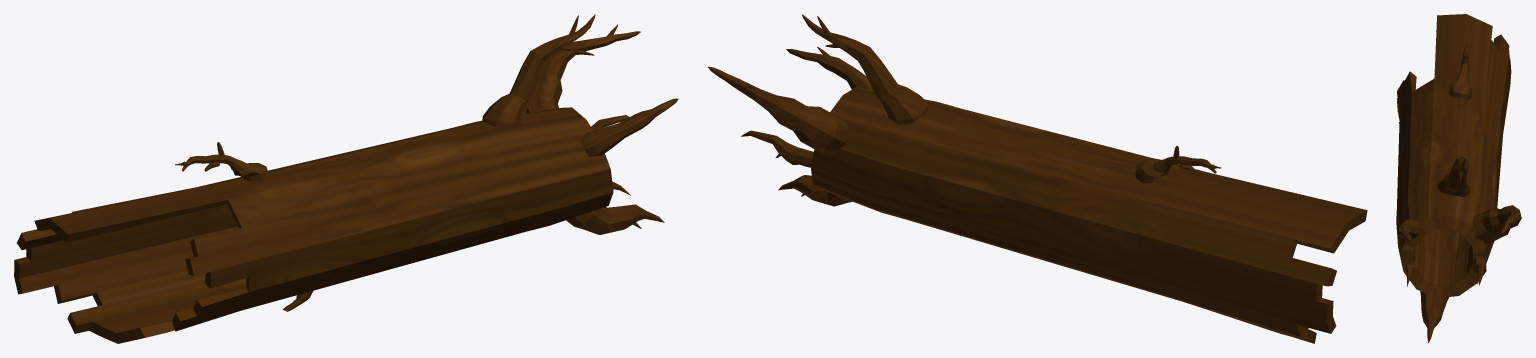
File: TroncoCaido.fbx
The picture shows the model from 3 angles, left to right: view 1: azimuth 30°, elevation 25°; view 2: azimuth 150°, elevation 25°; view 3: azimuth 270°, elevation 25°; orthographic projection. The views are drawn at different scales.
Parts seen in each view (by area): view 1: TroncoCaido; view 2: TroncoCaido; view 3: TroncoCaido.
Boxes of the visible parts, x1,y1,x2,y2 form: TroncoCaido: [14, 14, 678, 343]; TroncoCaido: [708, 14, 1367, 343]; TroncoCaido: [1396, 14, 1521, 343].
Size of the model in its own units: 168 by 53.65 by 37.24.
